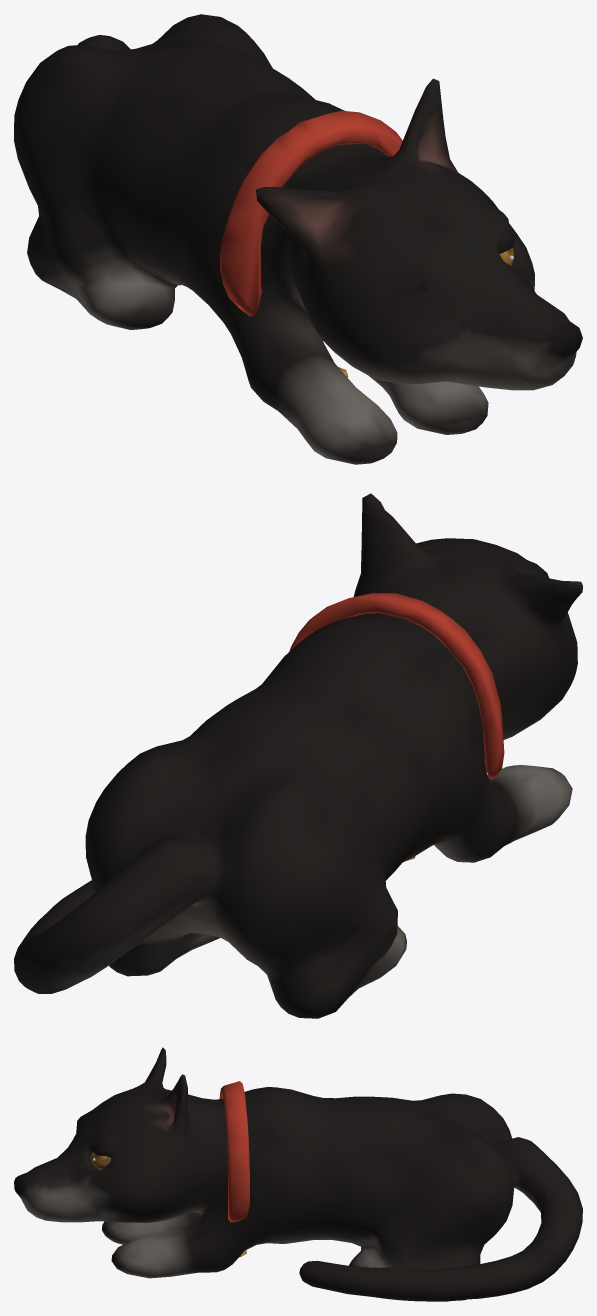
File: cho_muc_he_mat.glb
3 views of the same model, one above another, from view 1: azimuth 30°, elevation 25°; view 2: azimuth 150°, elevation 25°; view 3: azimuth 270°, elevation 25° (orthographic). The views are drawn at different scales.
Parts seen in each view (by area): view 1: cho_muc_he_mat; view 2: cho_muc_he_mat; view 3: cho_muc_he_mat.
Boxes of the visible parts, <box> form: cho_muc_he_mat: <box>14,14,582,464</box>; cho_muc_he_mat: <box>14,493,582,1018</box>; cho_muc_he_mat: <box>14,1047,582,1301</box>.
Size of the model in its own units: 0.46 by 0.4623 by 1.18.
